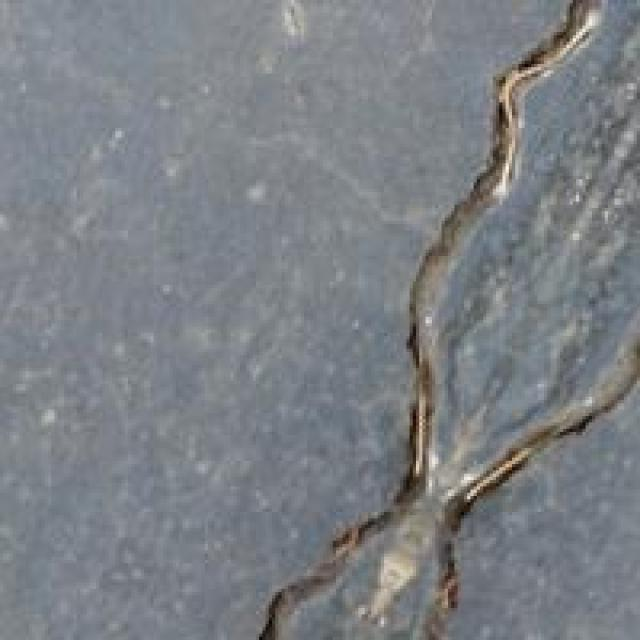crack: (262, 0, 637, 637)
